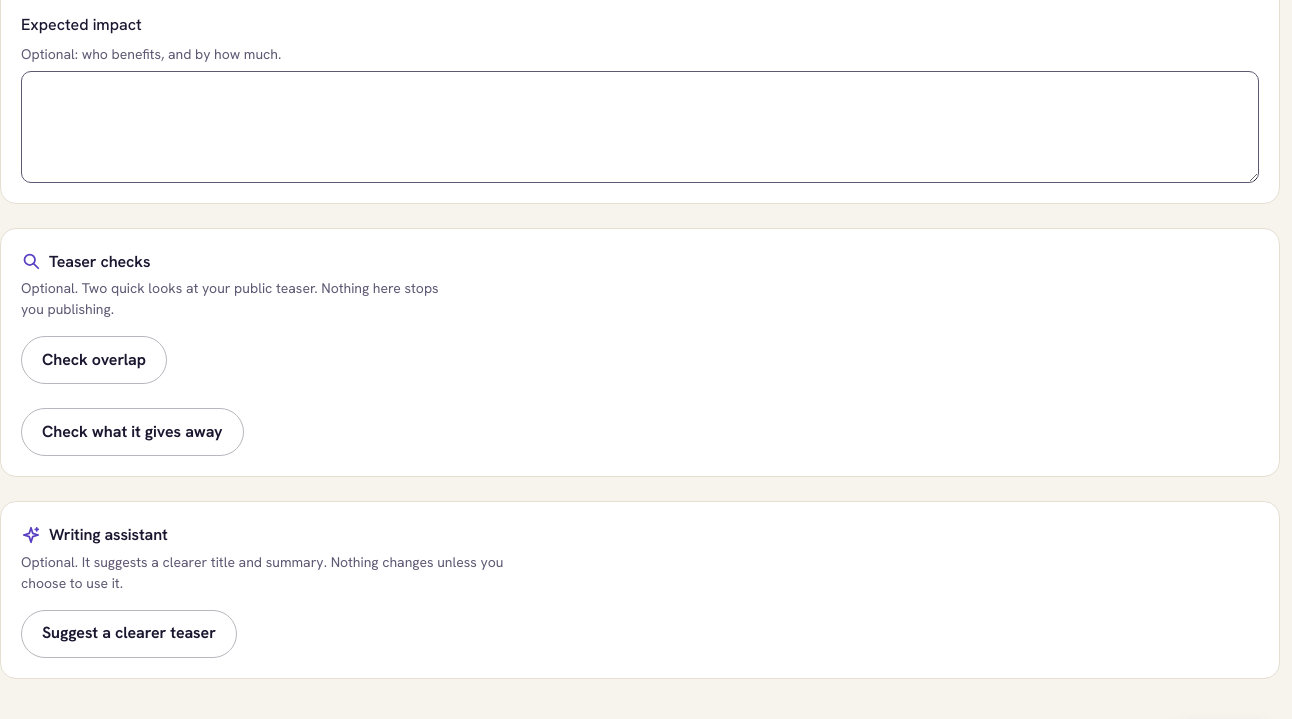
it: refusals › 429 originality_busy has its own fixed sentence, politely, with the button kept
(page scrolled)
Click the button "Check overlap": (94, 360) [21, 336, 167, 384]
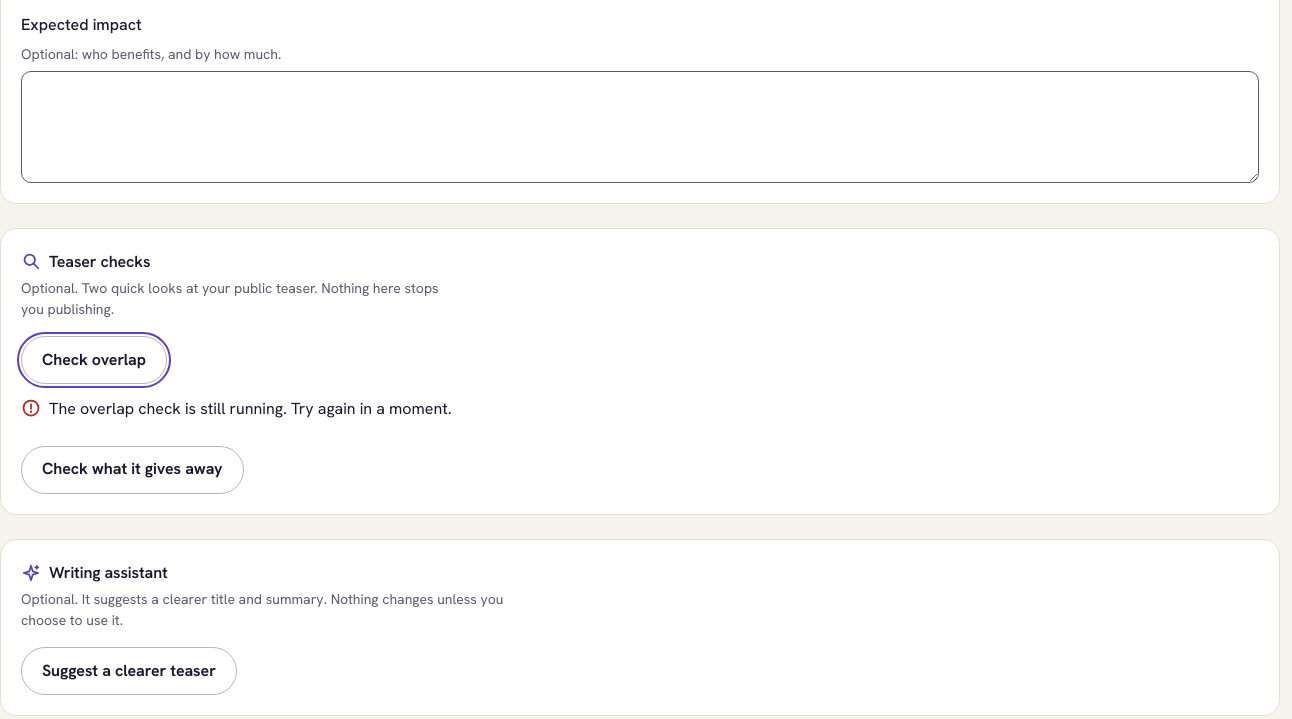
Expected: the message "The overlap check is still running. Try again in a moment." is shown, [21, 396, 452, 422]
